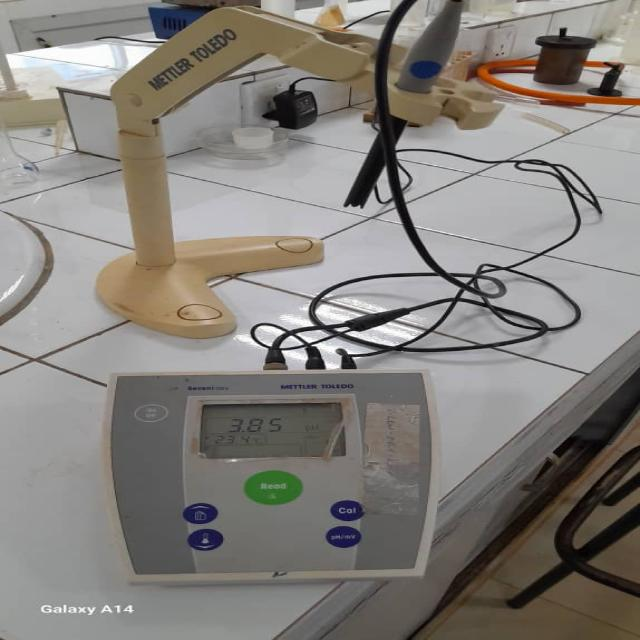PH meter: (112, 365, 456, 584)
